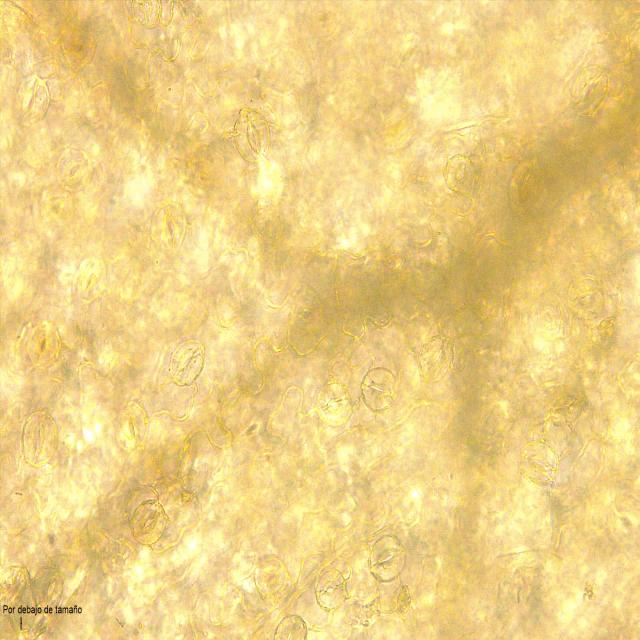Stomata: (19, 407, 62, 469), (506, 153, 547, 215), (147, 200, 190, 259), (8, 72, 51, 129), (232, 104, 272, 165), (22, 318, 64, 372), (570, 64, 610, 120), (112, 397, 150, 455), (517, 438, 561, 488), (168, 336, 209, 389), (358, 364, 400, 414), (54, 144, 95, 194), (367, 532, 408, 582), (129, 498, 171, 546), (417, 333, 455, 386), (314, 378, 354, 428), (566, 274, 606, 324), (57, 24, 99, 71), (69, 256, 110, 304), (252, 553, 289, 597), (444, 152, 479, 198), (313, 567, 349, 611), (130, 0, 164, 30), (272, 612, 308, 640)
